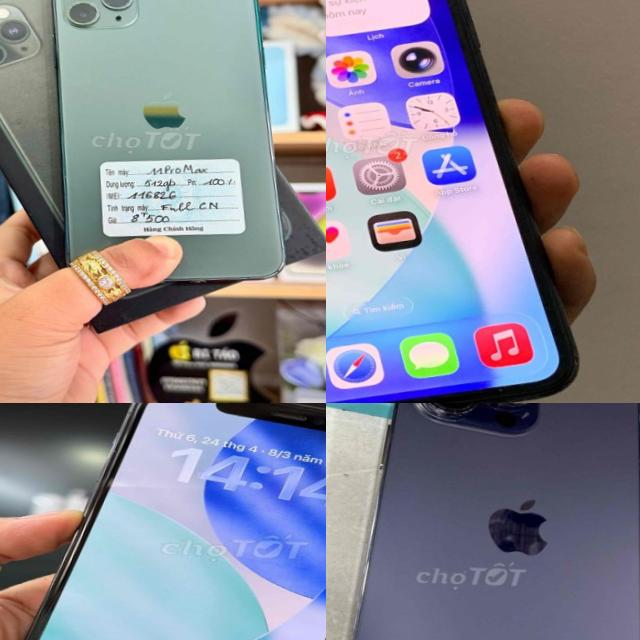gen_11: (326, 0, 599, 403), (33, 0, 301, 290)
gen_12_13: (0, 403, 326, 640)
gen_14: (328, 403, 640, 640)
